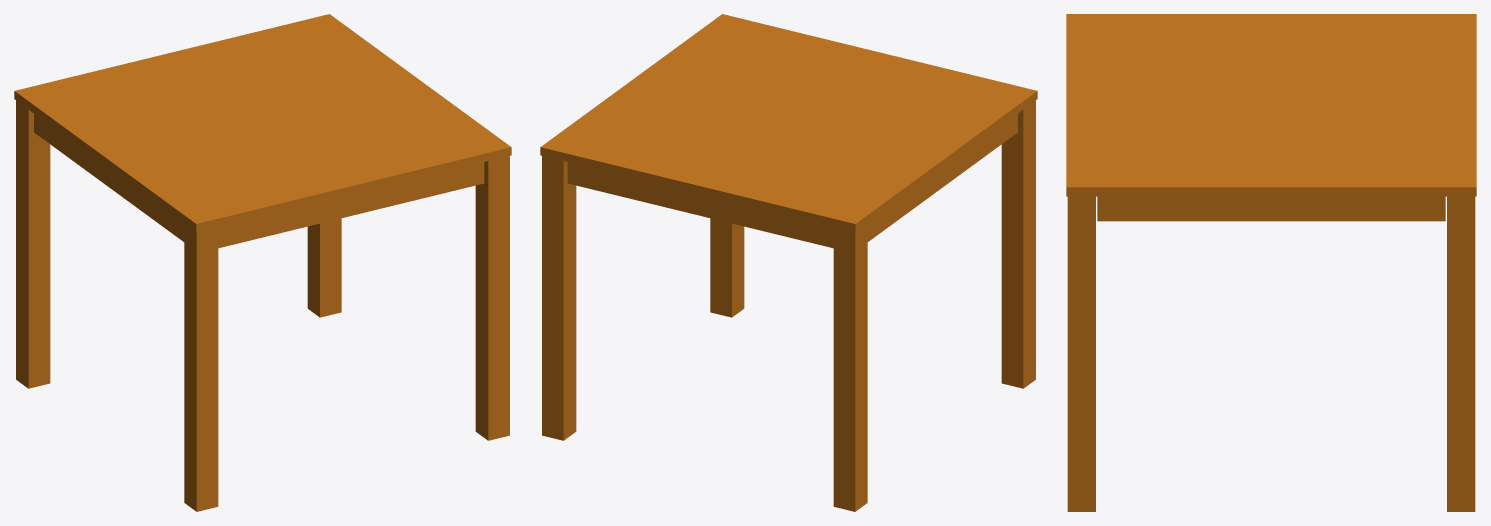
File: table.dae
3 renders of one model, left to right at view 1: azimuth 30°, elevation 25°; view 2: azimuth 150°, elevation 25°; view 3: azimuth 270°, elevation 25°, orthographic. The views are drawn at different scales.
Parts seen in each view (by area): view 1: obj1 (×7); view 2: obj1 (×7); view 3: obj1 (×4).
Part boxes in pixels (left/top/right/bottom): obj1 (×7): left=14, top=14, right=511, bottom=511; obj1 (×7): left=540, top=14, right=1037, bottom=511; obj1 (×4): left=1066, top=14, right=1476, bottom=511.
Bounding box in the file's own units: 31.53 × 31.53 × 27.59.
